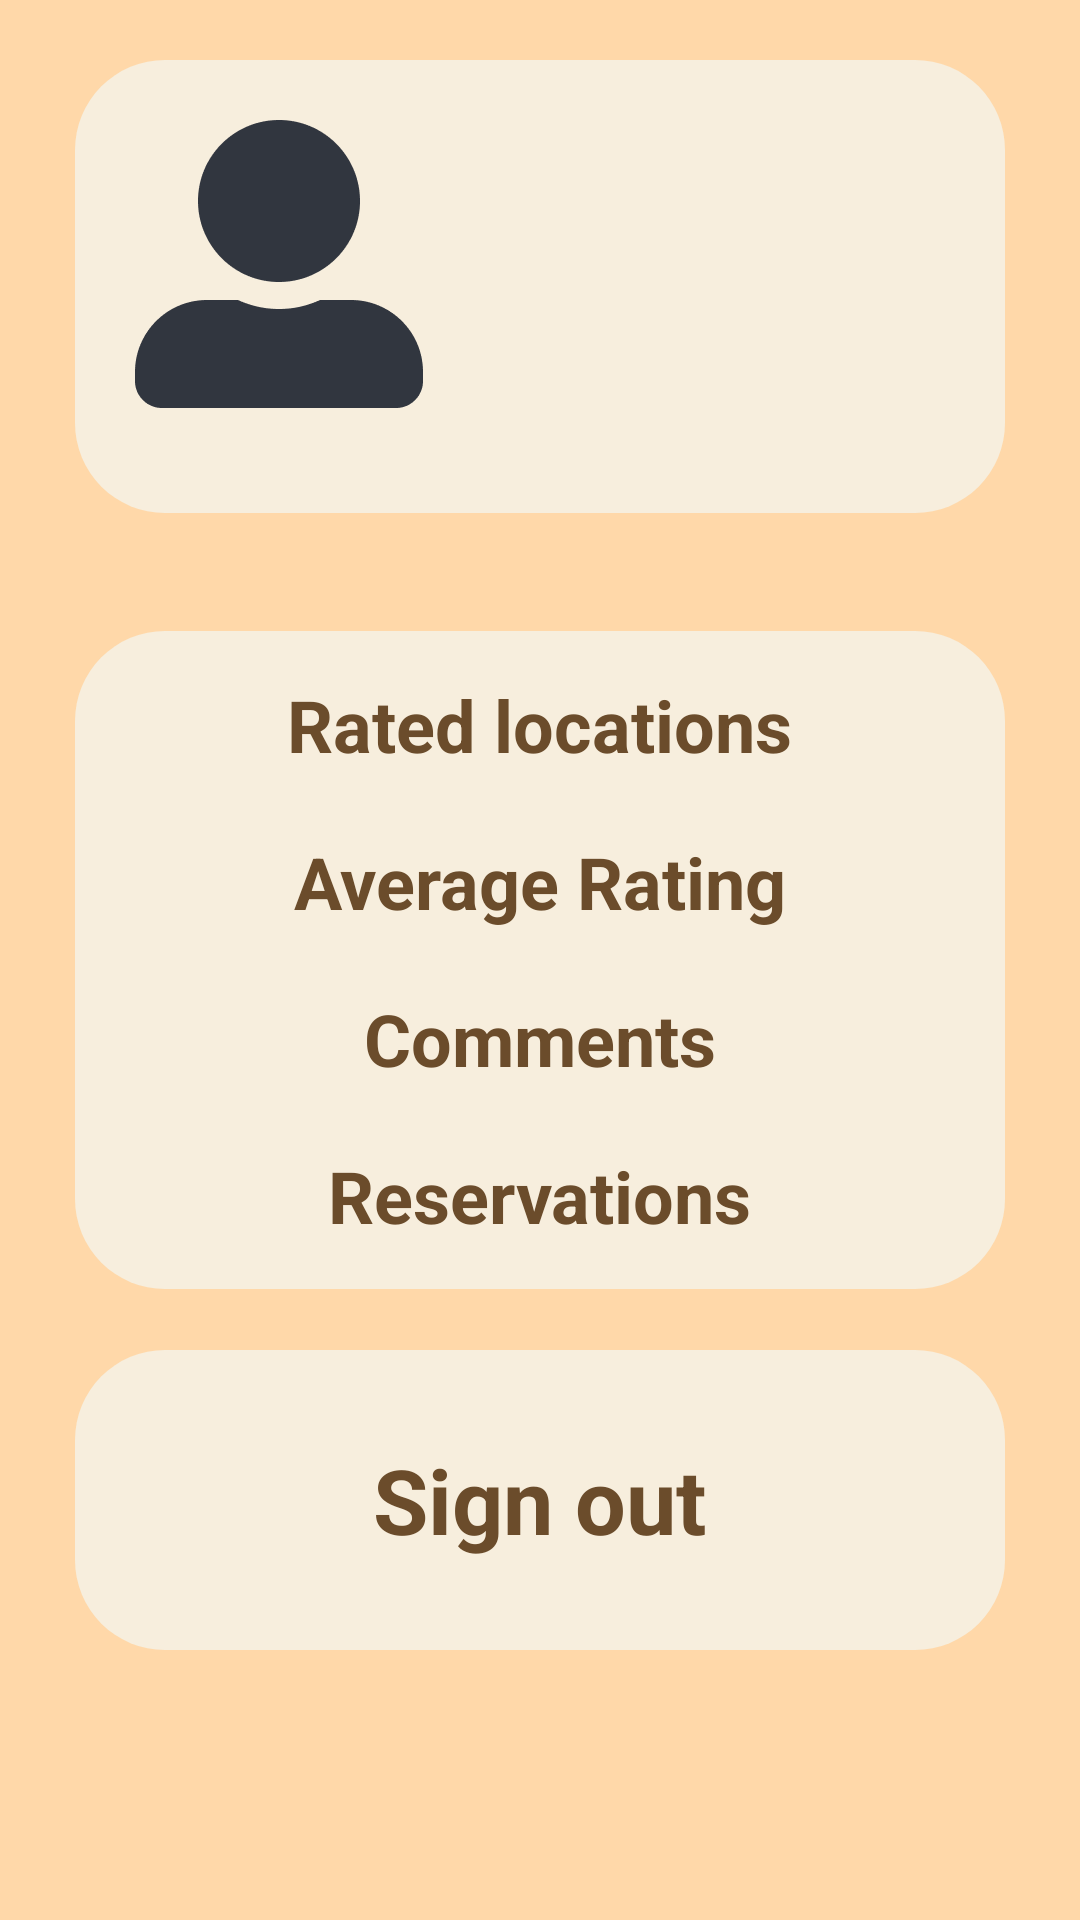

Screen size 1080 × 1920. Icon name, then its center in pixels as [x,y]:
user: [279,264]
